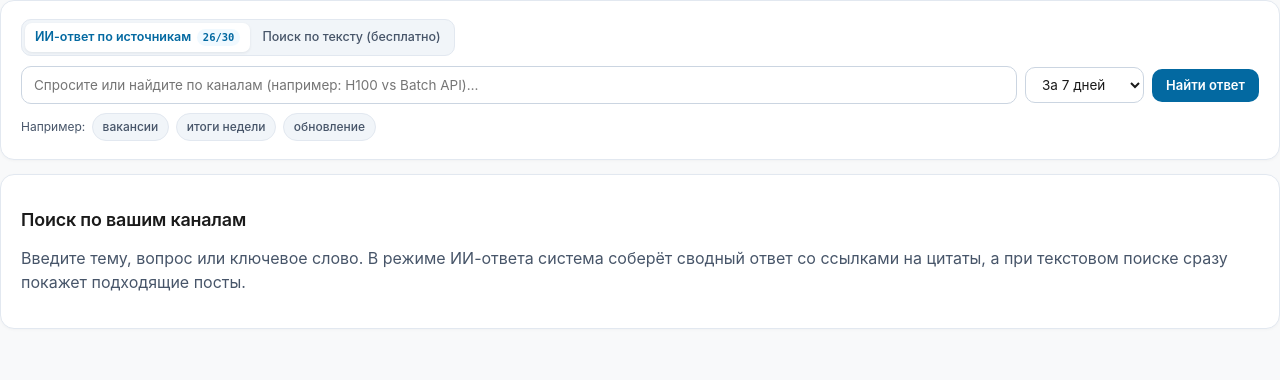
Test: Zero-Trust Onboarding, Channel/Addlist Parser & Toggle View UI (SPEC 5.1, 5.2) › shows refusal card (not empty boxes) when backend SSE returns no_verified_data and no local match exists
The image size is (1280, 380).
Replace the text in the search field named "Поисковый запрос" with "несуществующий_запрос_xyz". click: (519, 85)
box: [21,66,1017,104]
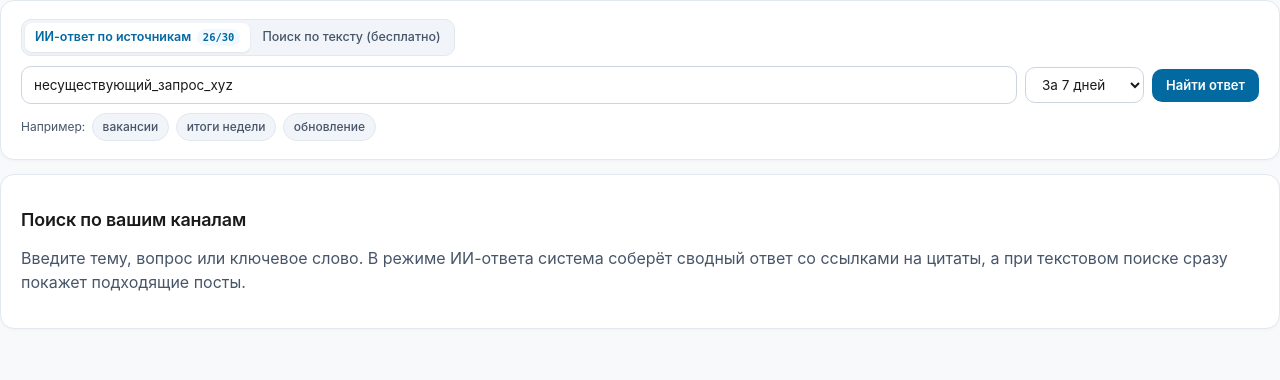
Submit the form named "Поисковый запрос", box [21,66,1259,104]
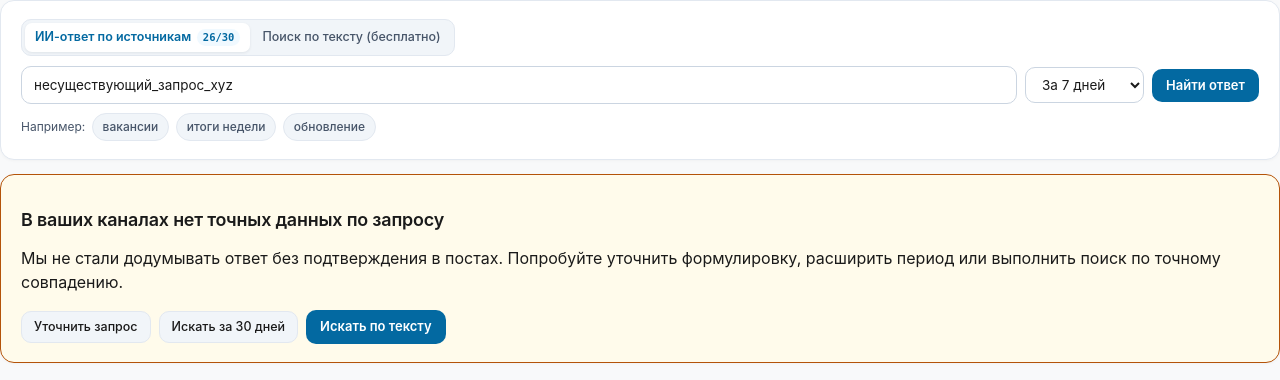
Result: the heading "В ваших каналах нет точных данных по запросу" is shown at [21,209,444,230]
